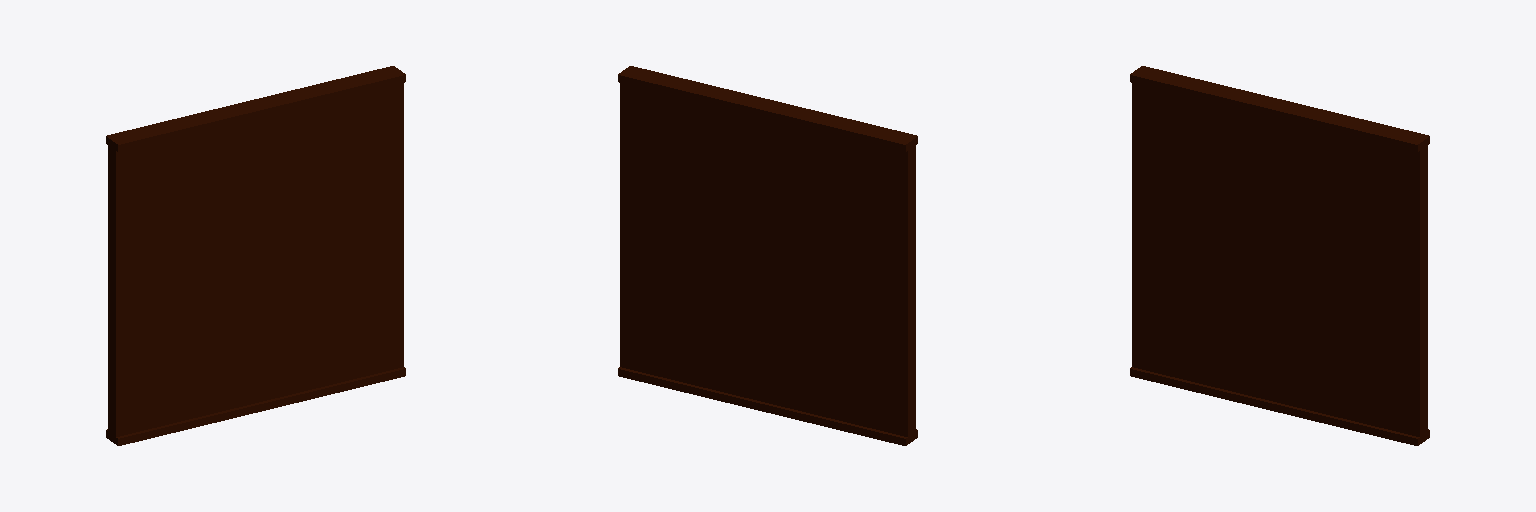
The model's file is 8x8_wall.obj.
The picture shows the model from 3 angles: view 1: azimuth 30°, elevation 25°; view 2: azimuth 150°, elevation 25°; view 3: azimuth 330°, elevation 25°; orthographic projection.
Parts seen in each view (by area): view 1: wall; view 2: wall; view 3: wall.
Boxes of the visible parts, <box> form: wall: <box>106,66,405,445</box>; wall: <box>618,66,917,445</box>; wall: <box>1130,66,1429,445</box>.
Size of the model in its own units: 8 by 8 by 0.607.